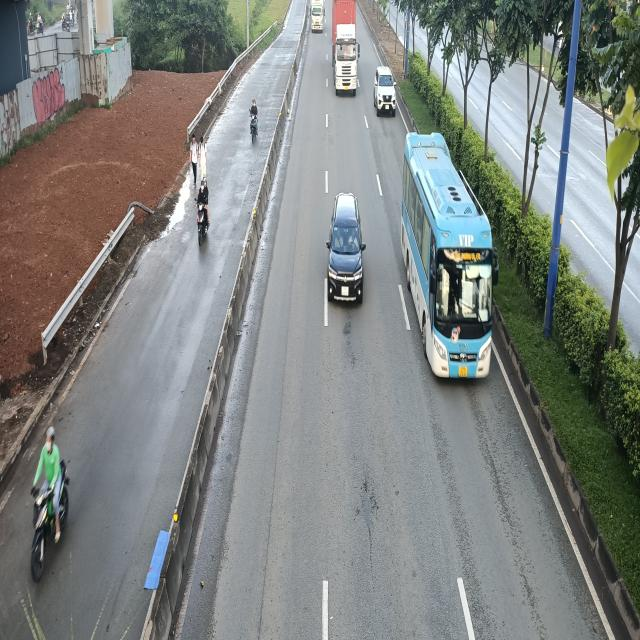car: (327, 194, 368, 305), (374, 65, 398, 116)
coach: (398, 131, 497, 382)
container: (332, 2, 361, 97)
